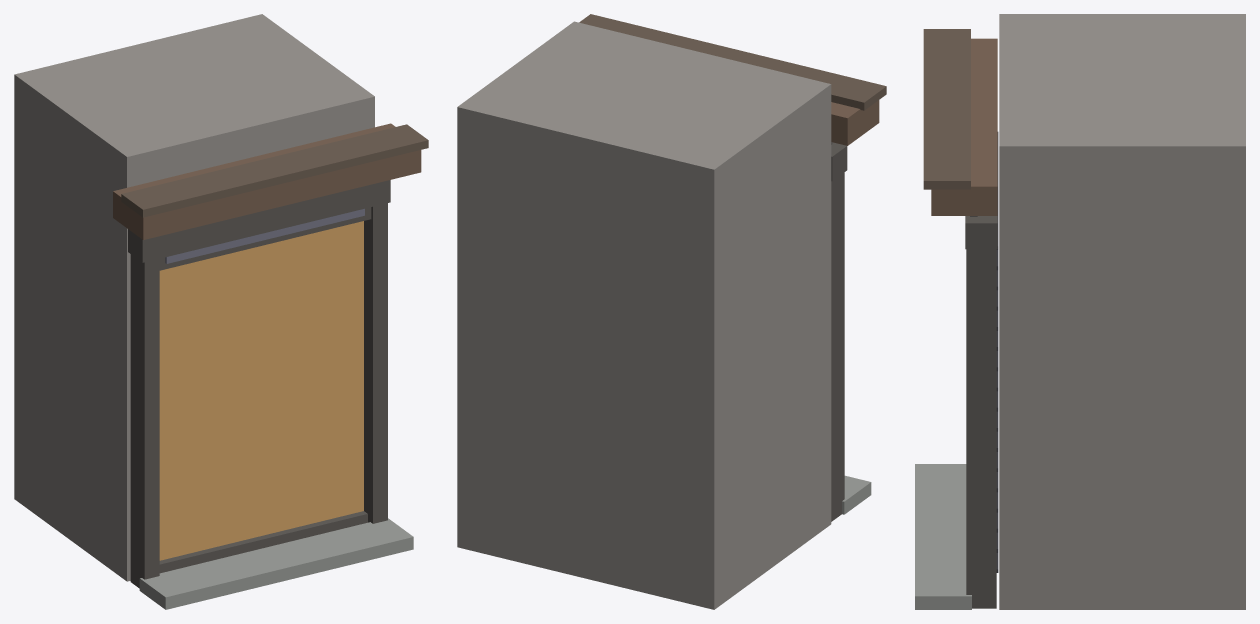
The model's file is prop_shutter_shop_orange.glb.
3 renders of one model, left to right at view 1: azimuth 30°, elevation 25°; view 2: azimuth 150°, elevation 25°; view 3: azimuth 270°, elevation 25°, orthographic. The views are drawn at different scales.
Parts seen in each view (by area): view 1: shutter_shop_orange; view 2: shutter_shop_orange; view 3: shutter_shop_orange.
Part boxes in pixels (x1,y1,x2,y2): shutter_shop_orange: [14, 14, 428, 609]; shutter_shop_orange: [457, 14, 886, 609]; shutter_shop_orange: [915, 14, 1245, 609].
Bounding box in the file's own units: 3.8 × 5.4 × 3.49.
